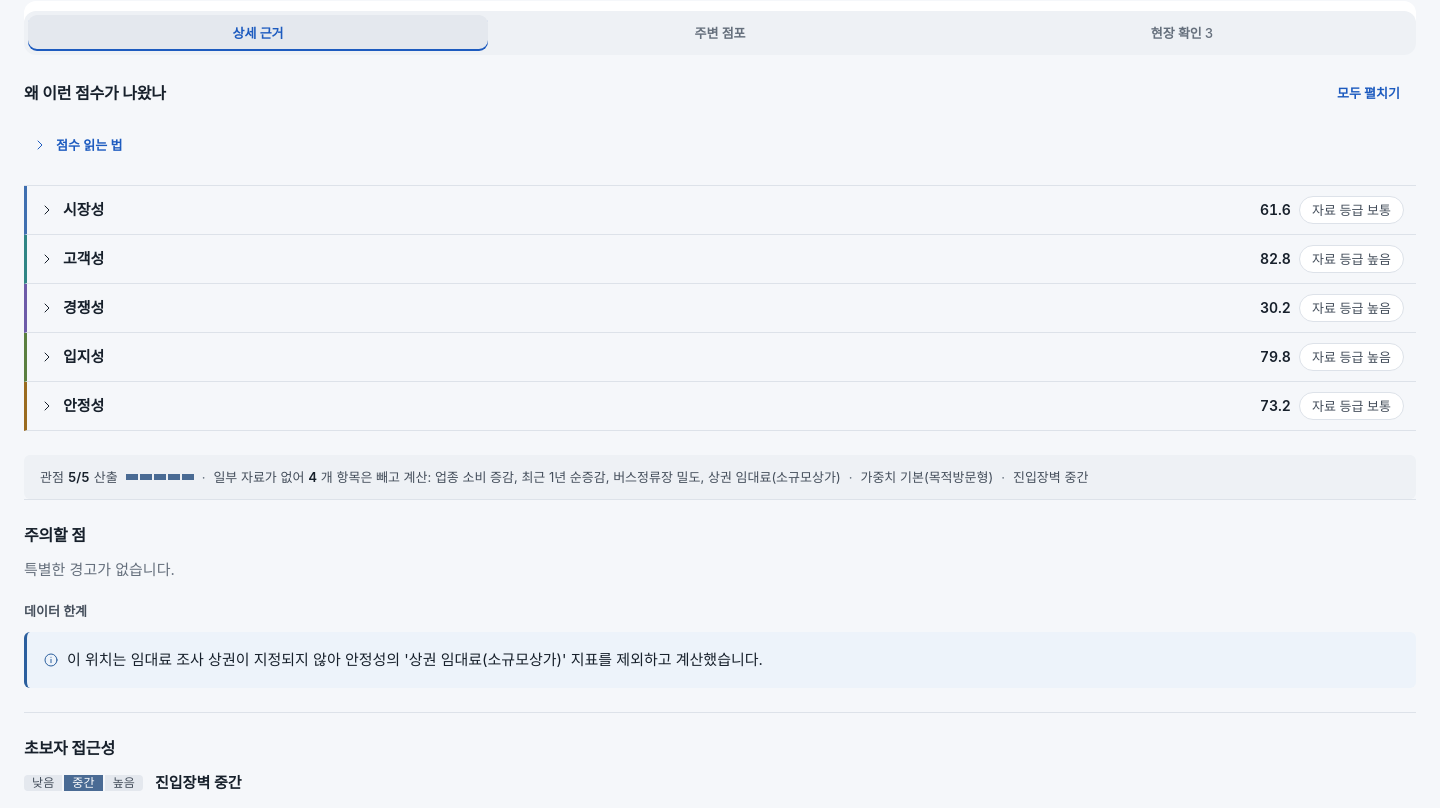
AnalysisResult — 실제 /analyze 응답(부평역 · PC방) › 세부 분석은 기본 접힘이고, 버튼으로 열면 breakdown이 보인다
(page scrolled)
Check: the table "안정성 세부 지표" is not shown
Click the button with id "detail-toggle-stability". click: (84, 405)
box: [27, 382, 1416, 430]
(page scrolled)
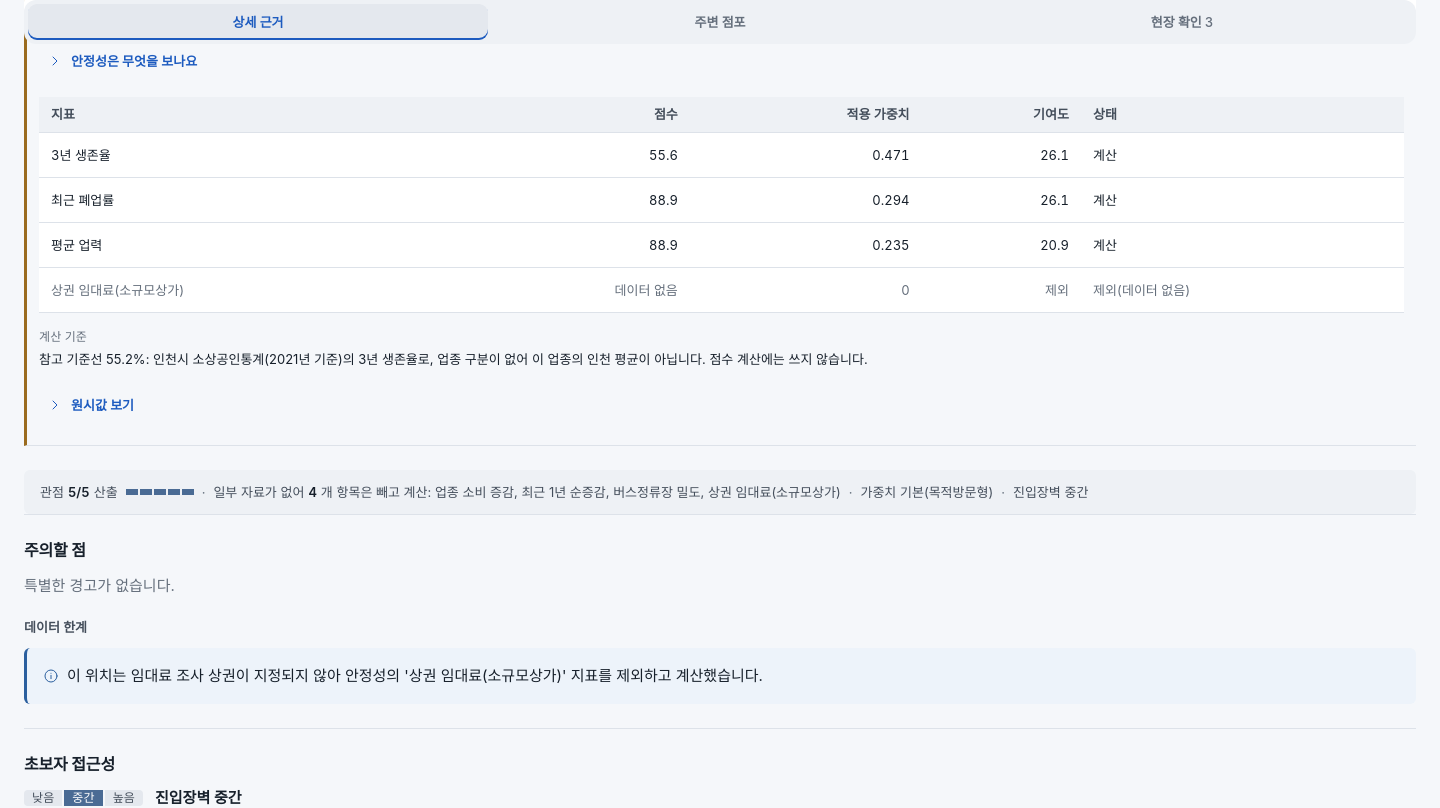
Check: the text "인천_업종평균_3년생존율" is not shown
Check: the row "3년 생존율 55.6 0.471 26.1 계산" is shown, box [39, 134, 1404, 178]
Check: the row "상권 임대료(소규모상가) 데이터 없음 0 제외 제외(데이터 없음)" is shown, box [39, 268, 1404, 313]
Click the button "원시값 보기". click: (91, 406)
box: [39, 386, 142, 426]
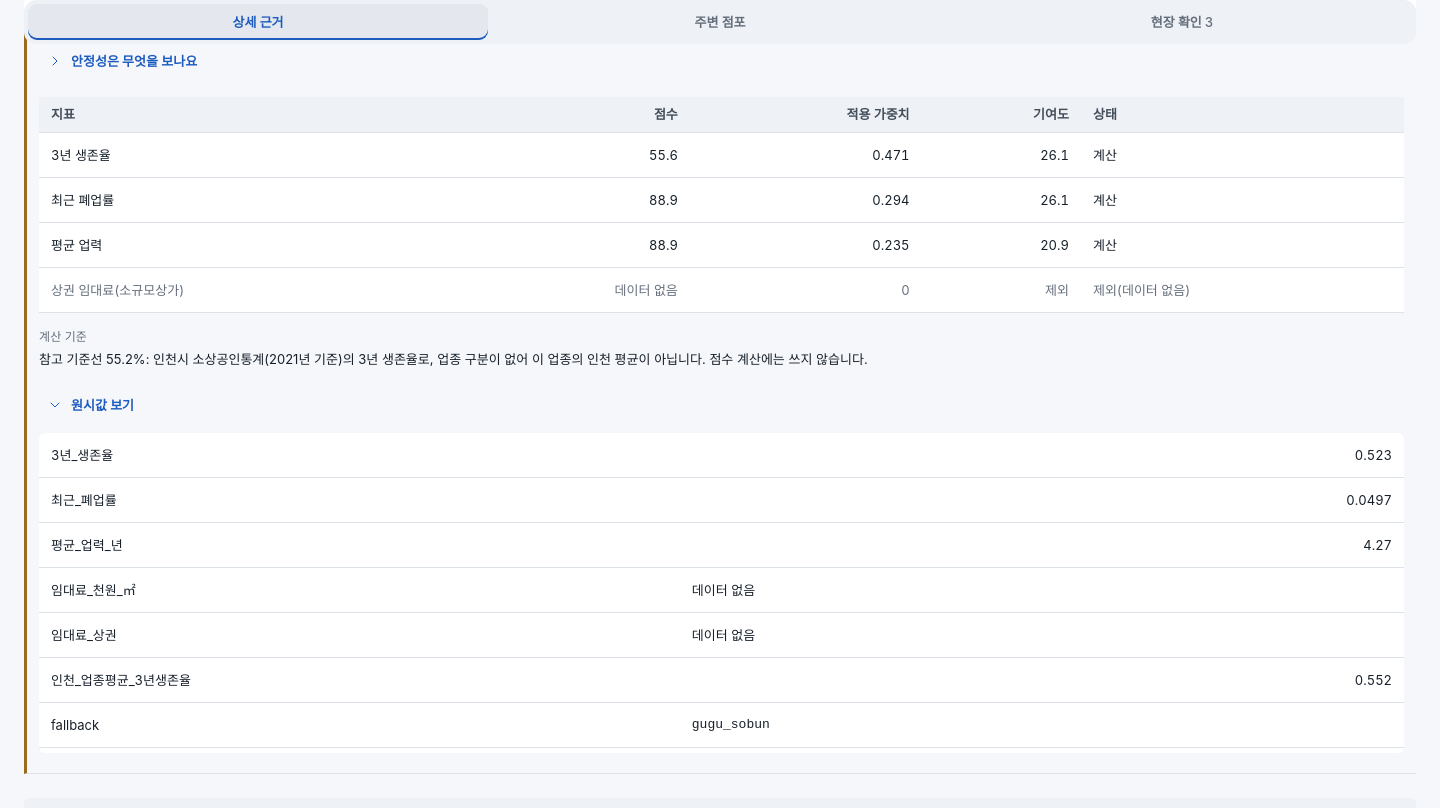
Check: the column heading "인천_업종평균_3년생존율" is shown, box [39, 658, 680, 703]
